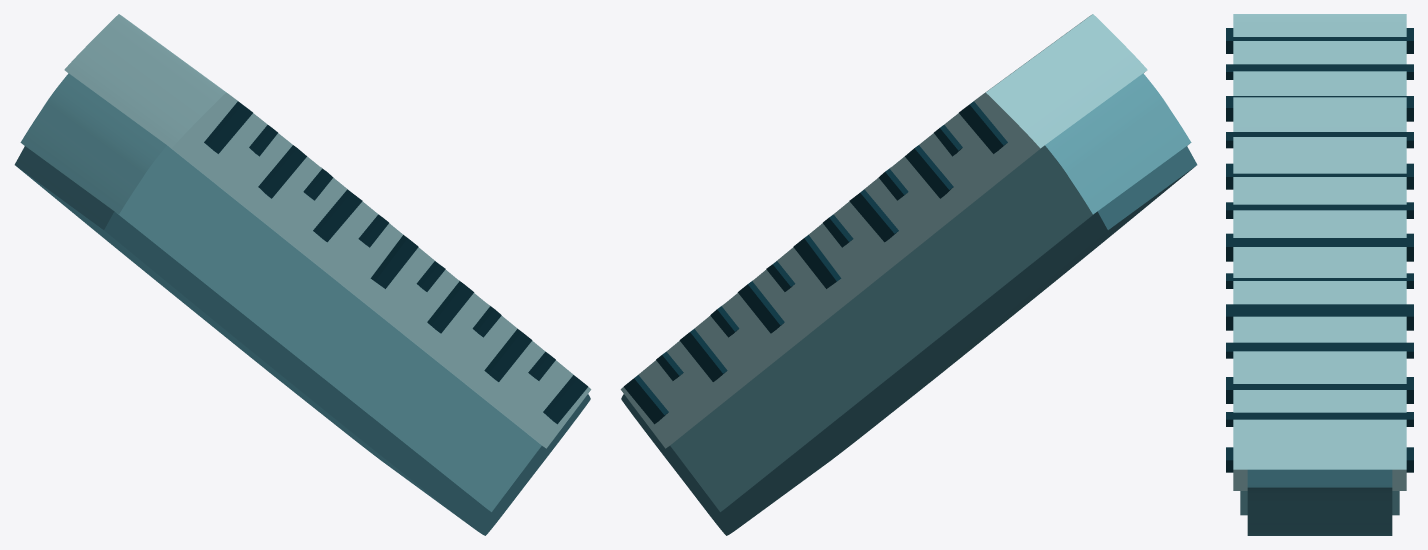
The picture shows the model from 3 angles, left to right: view 1: azimuth 30°, elevation 25°; view 2: azimuth 150°, elevation 25°; view 3: azimuth 270°, elevation 25°; orthographic projection. The views are drawn at different scales.
Visible parts, largest first — view 1: U+1F4CF_layer01_obj00, U+1F4CF_layer02_obj00, U+1F4CF_layer00_obj00, U+1F4CF_layer03_obj12, U+1F4CF_layer03_obj01, U+1F4CF_layer03_obj00, U+1F4CF_layer03_obj02, U+1F4CF_layer03_obj11, U+1F4CF_layer03_obj05, U+1F4CF_layer03_obj09; view 2: U+1F4CF_layer01_obj00, U+1F4CF_layer02_obj00, U+1F4CF_layer00_obj00, U+1F4CF_layer03_obj12, U+1F4CF_layer03_obj01, U+1F4CF_layer03_obj00, U+1F4CF_layer03_obj02, U+1F4CF_layer03_obj11, U+1F4CF_layer03_obj05, U+1F4CF_layer03_obj09; view 3: U+1F4CF_layer02_obj00, U+1F4CF_layer00_obj00, U+1F4CF_layer03_obj05, U+1F4CF_layer03_obj12, U+1F4CF_layer03_obj06, U+1F4CF_layer03_obj07, U+1F4CF_layer03_obj03, U+1F4CF_layer03_obj04, U+1F4CF_layer03_obj02, U+1F4CF_layer03_obj10, U+1F4CF_layer03_obj01, U+1F4CF_layer03_obj00 (+4 smaller).
Boxes of the visible parts, box(x1,y1,x2,y2) form: U+1F4CF_layer01_obj00: box(20, 73, 541, 511); U+1F4CF_layer02_obj00: box(64, 14, 591, 448); U+1F4CF_layer00_obj00: box(14, 146, 590, 535); U+1F4CF_layer03_obj12: box(370, 235, 418, 288); U+1F4CF_layer03_obj01: box(313, 189, 362, 242); U+1F4CF_layer03_obj00: box(204, 101, 252, 153); U+1F4CF_layer03_obj02: box(484, 328, 532, 381); U+1F4CF_layer03_obj11: box(258, 145, 306, 198); U+1F4CF_layer03_obj05: box(427, 280, 474, 333); U+1F4CF_layer03_obj09: box(543, 375, 588, 424); U+1F4CF_layer01_obj00: box(670, 73, 1191, 511); U+1F4CF_layer02_obj00: box(620, 14, 1147, 448); U+1F4CF_layer00_obj00: box(621, 146, 1197, 535); U+1F4CF_layer03_obj12: box(793, 235, 841, 288); U+1F4CF_layer03_obj01: box(849, 189, 898, 242); U+1F4CF_layer03_obj00: box(959, 101, 1007, 153); U+1F4CF_layer03_obj02: box(679, 328, 727, 381); U+1F4CF_layer03_obj11: box(905, 145, 953, 198); U+1F4CF_layer03_obj05: box(737, 280, 784, 333); U+1F4CF_layer03_obj09: box(623, 375, 668, 424); U+1F4CF_layer02_obj00: box(1233, 14, 1406, 490); U+1F4CF_layer00_obj00: box(1247, 469, 1392, 535); U+1F4CF_layer03_obj05: box(1226, 304, 1413, 330); U+1F4CF_layer03_obj12: box(1226, 233, 1413, 261); U+1F4CF_layer03_obj06: box(1226, 342, 1413, 358); U+1F4CF_layer03_obj07: box(1226, 64, 1413, 79); U+1F4CF_layer03_obj03: box(1226, 412, 1413, 426); U+1F4CF_layer03_obj04: box(1226, 202, 1413, 218); U+1F4CF_layer03_obj02: box(1226, 377, 1413, 403); U+1F4CF_layer03_obj10: box(1226, 132, 1413, 148); U+1F4CF_layer03_obj01: box(1226, 163, 1413, 189); U+1F4CF_layer03_obj00: box(1226, 28, 1413, 53).
Size of the model in its own units: 0.3141 by 0.3177 by 0.13.
